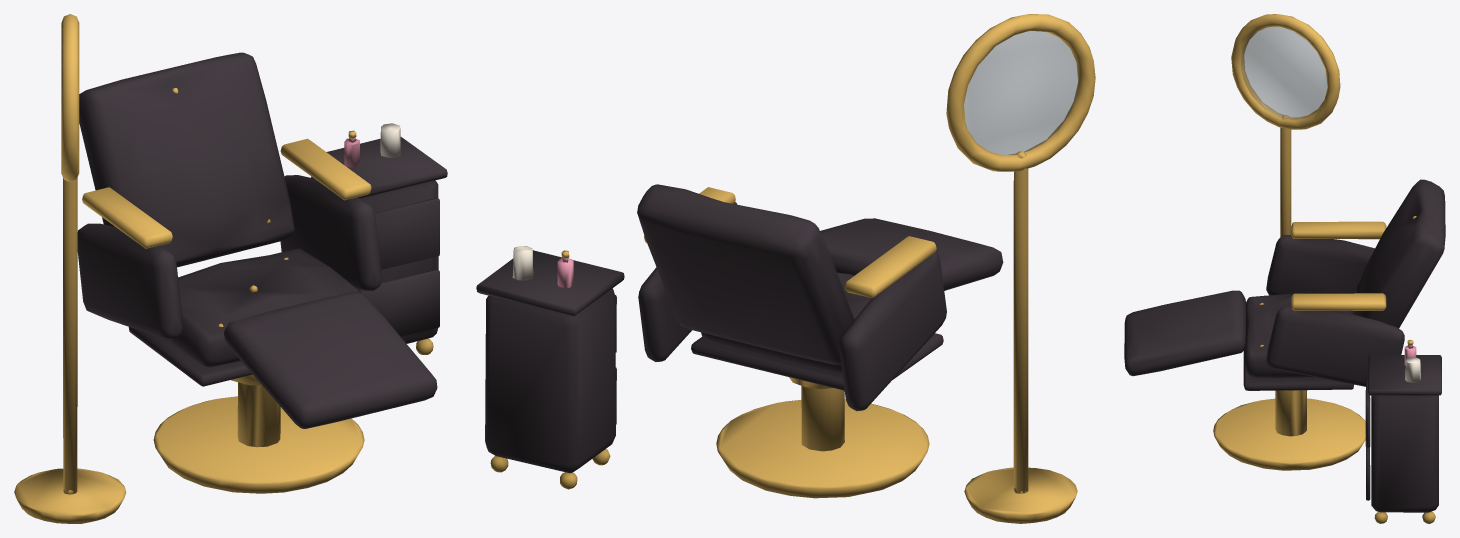
File: brow-bar-noir.glb
3 renders of one model, left to right at view 1: azimuth 30°, elevation 25°; view 2: azimuth 150°, elevation 25°; view 3: azimuth 270°, elevation 25°, orthographic. The views are drawn at different scales.
Parts seen in each view (by area): view 1: brow-bar-noir; view 2: brow-bar-noir; view 3: brow-bar-noir.
Boxes of the visible parts, <box> form: brow-bar-noir: <box>14,14,447,523</box>; brow-bar-noir: <box>476,14,1095,523</box>; brow-bar-noir: <box>1124,14,1445,523</box>.
Size of the model in its own units: 1.56 by 1.49 by 1.21.
